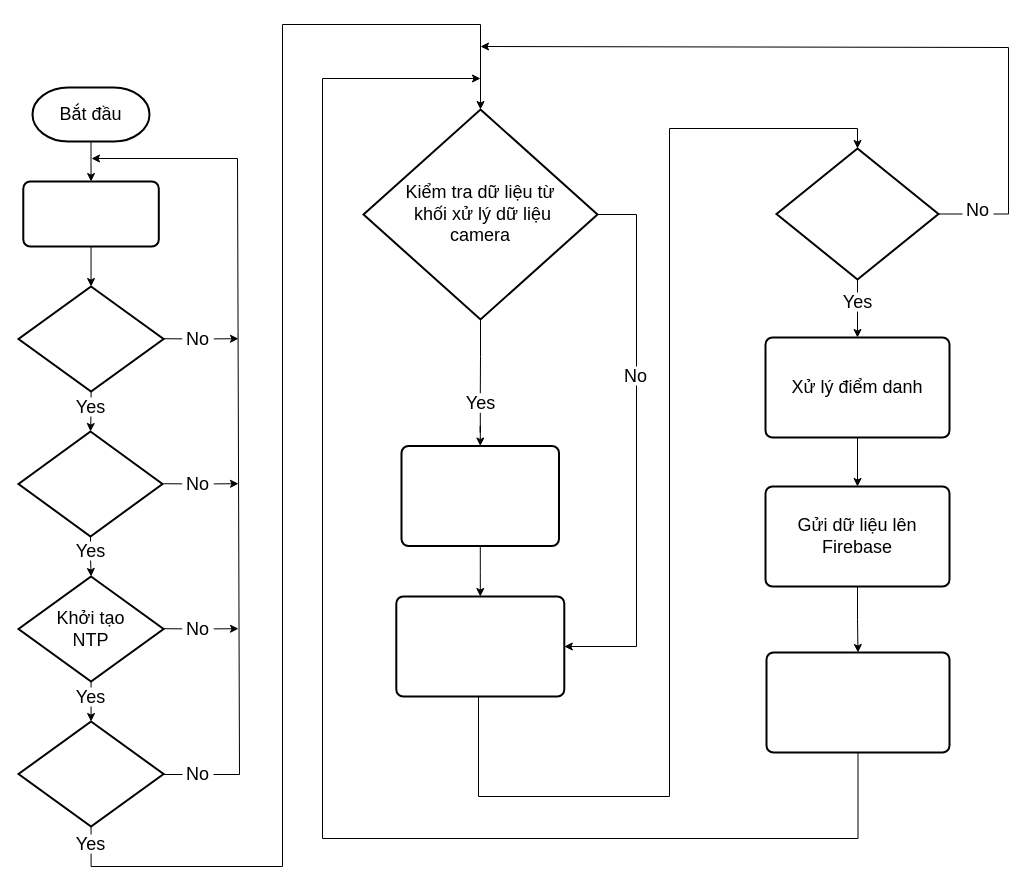
Image size: 1034x892. Some labels were removed from this diagram. The centre of each missing label's shape, as x and y in pixels:
"Cập nhật trạng thái LED định kỳ" belongs at (x=480, y=646).
"Khởi tạo Firebase" belongs at (x=90, y=773).
"Khởi tạo hệ thống" belongs at (x=90, y=213).
"Khởi tạo server" belongs at (x=90, y=483).
"KT kết nối Wifi" belongs at (x=90, y=338).
"KT RFID được quét" belongs at (x=857, y=213).
"Phát cảnh báo" belongs at (x=857, y=702).
"Điều khiển LED theo dữ liệu nhận được" belongs at (x=480, y=495).
